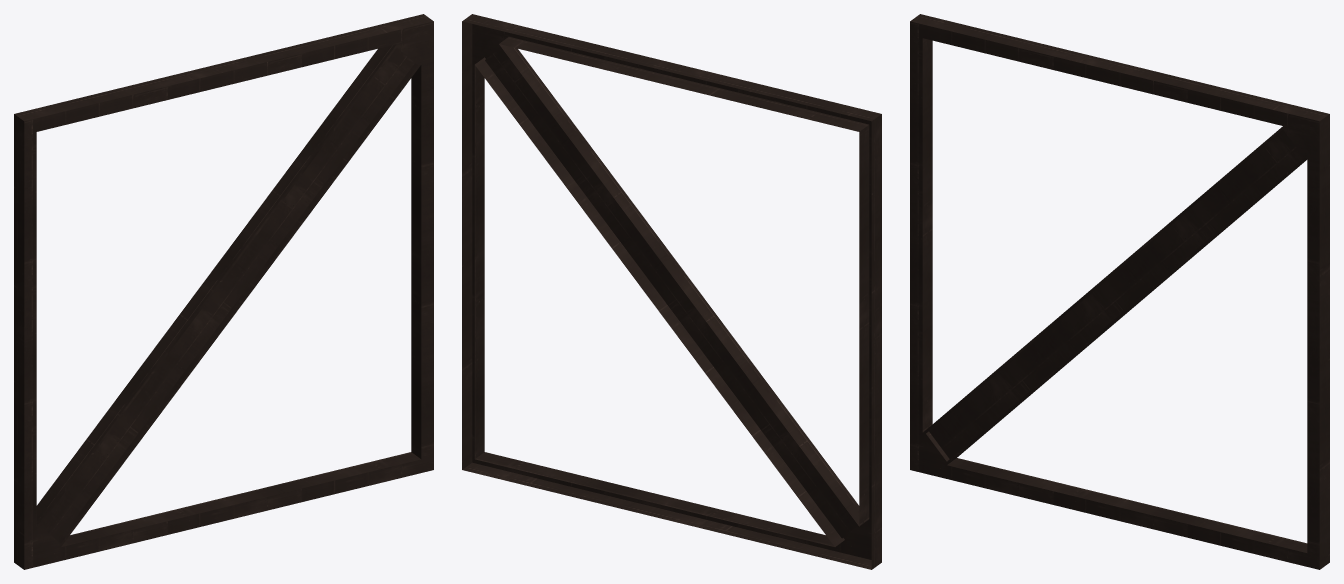
File: Ferro.fbx
3 renders of one model, left to right at view 1: azimuth 30°, elevation 25°; view 2: azimuth 150°, elevation 25°; view 3: azimuth 330°, elevation 25°, orthographic.
Parts seen in each view (by area): view 1: Plane; view 2: Plane; view 3: Plane.
Boxes of the visible parts, left/top/right/bottom form: Plane: left=14, top=14, right=433, bottom=569; Plane: left=462, top=14, right=881, bottom=569; Plane: left=910, top=14, right=1329, bottom=569.
Bounding box in the file's own units: 7911 × 8279 × 337.
